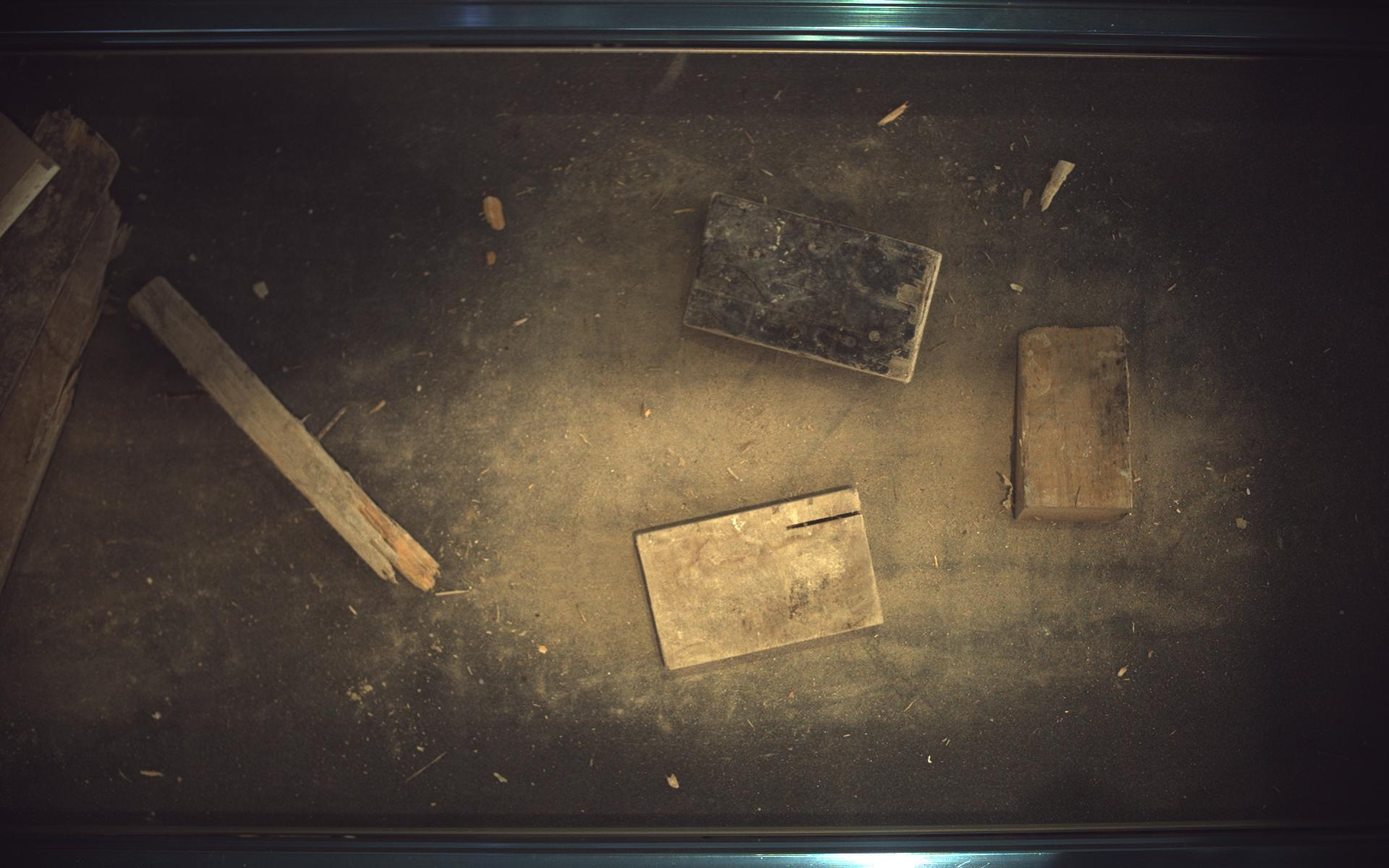wood: (127, 277, 439, 592), (1, 109, 119, 589), (686, 194, 944, 382), (636, 487, 884, 671), (1016, 326, 1136, 523), (1, 112, 58, 235)
